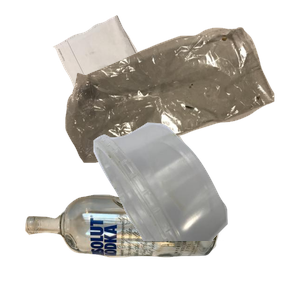glass: (22, 192, 234, 300)
paper: (51, 13, 230, 186)
plastic: (91, 120, 300, 300)
trash: (63, 24, 300, 179)
